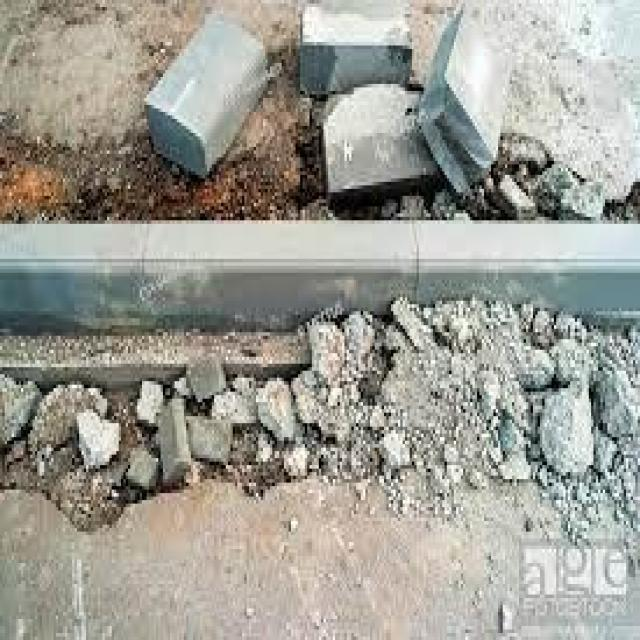curb: (143, 223, 417, 335), (416, 219, 638, 324), (0, 221, 153, 334)
